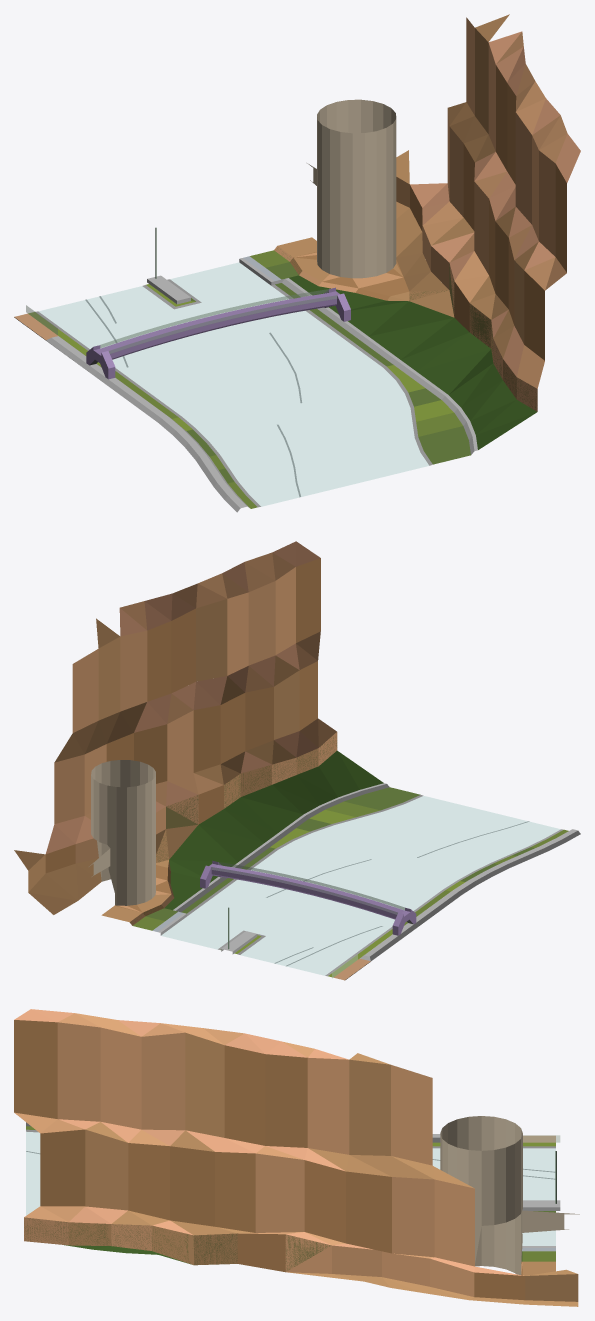
3 views of the same model, one above another, from view 1: azimuth 30°, elevation 25°; view 2: azimuth 150°, elevation 25°; view 3: azimuth 270°, elevation 25° (orthographic). The views are drawn at different scales.
Visible parts, largest first — view 1: O2D94B; view 2: O2D94B; view 3: O2D94B.
Part boxes in pixels (left/top/right/bottom): O2D94B: left=14, top=14, right=580, bottom=512; O2D94B: left=14, top=541, right=580, bottom=980; O2D94B: left=14, top=1009, right=579, bottom=1306.
Bounding box in the file's own units: 125 × 76 × 137.
